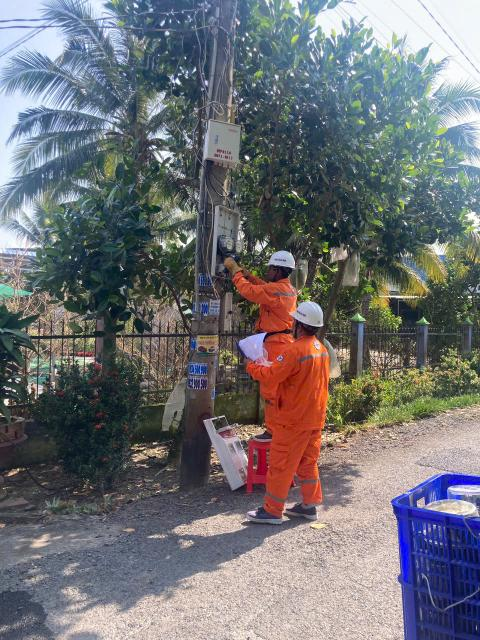gloves: (221, 255, 245, 280), (234, 257, 253, 282)
helmet: (284, 288, 331, 334), (265, 238, 293, 276)
shoes: (283, 489, 325, 526), (241, 502, 285, 531), (247, 422, 282, 446)
